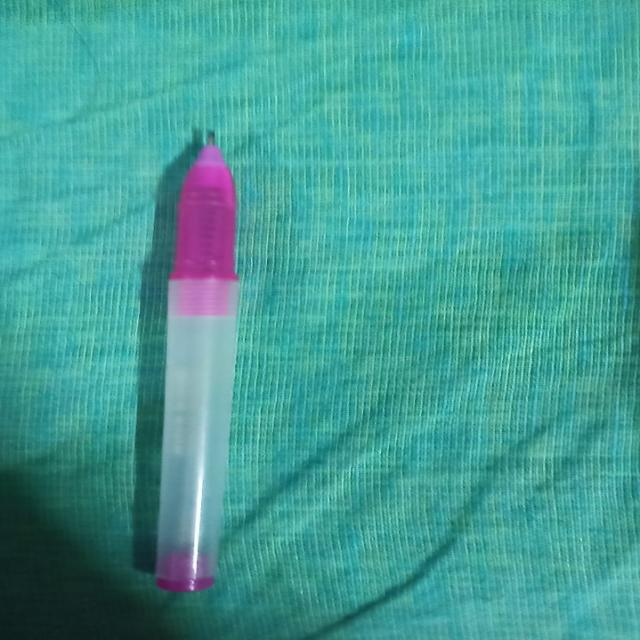pen: (128, 123, 260, 599)
